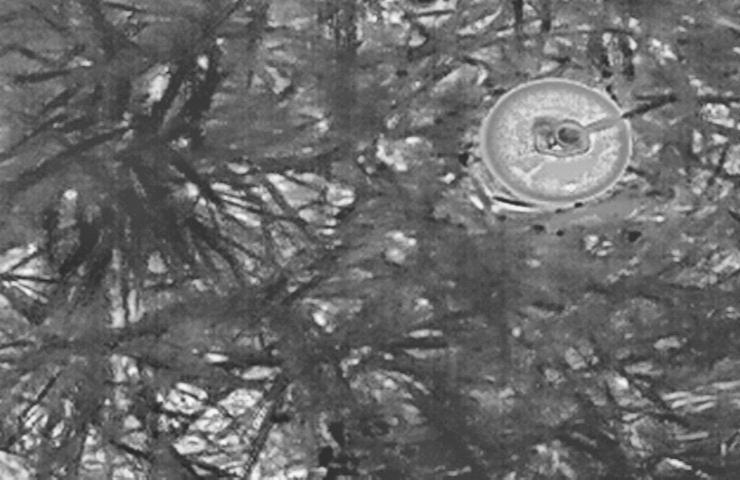landmines: (475, 66, 644, 218)
